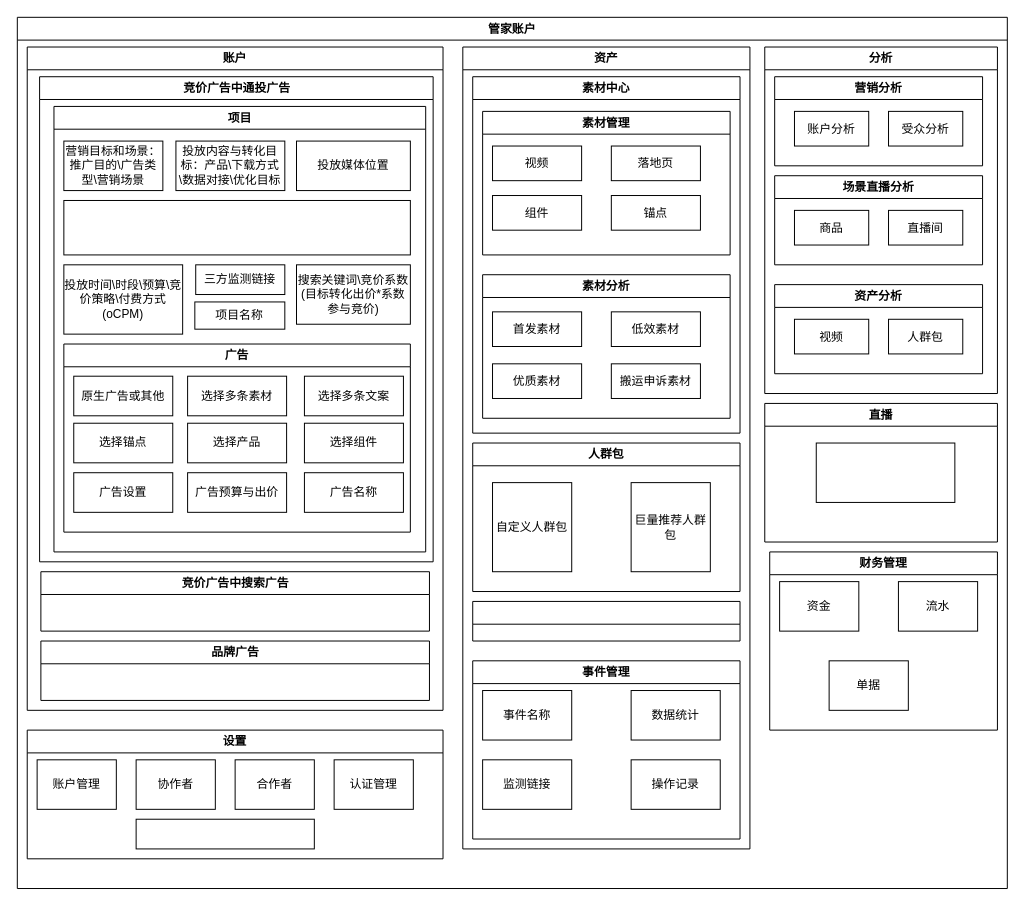
The diagram is 1025 pixels wide and 906 high, and some of its shapes have lost their labels. Each missing label, with the centre of its shape:
"应用管理" belongs at point 606,620.
"操作日志" belongs at point 224,833.
"用户定向人群包：地域\性别\年龄\自定义人群\行为兴趣\抖音达人\穿山甲媒体定向\平台\设备类型\网络\已安装用户\过滤已转化用户" belongs at point 236,227.
"直播数据" belongs at point 885,472.
